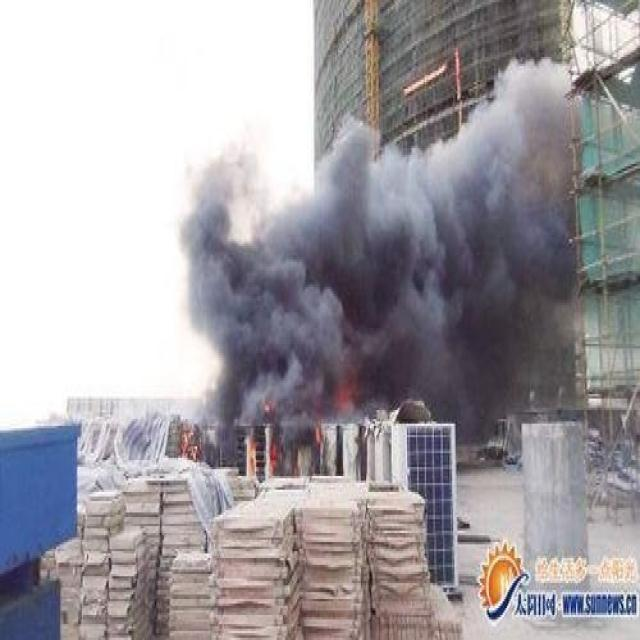Smoke: (176, 50, 574, 476)
